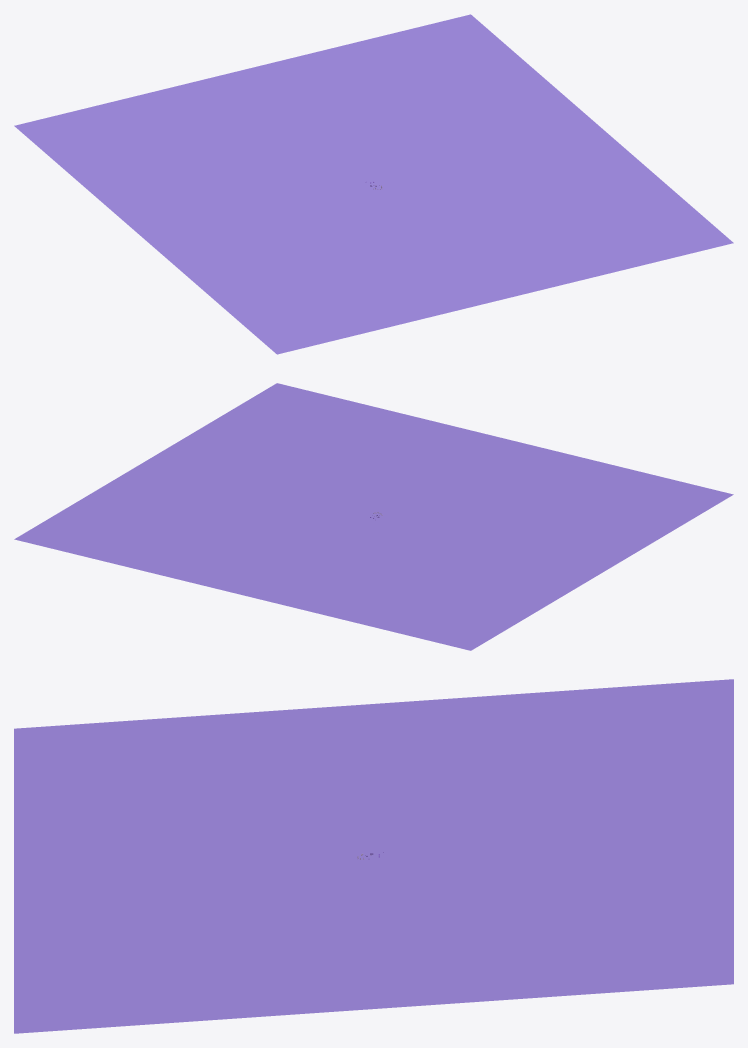
The model's file is Map3.fbx.
The picture shows the model from 3 angles, top to bottom: view 1: azimuth 30°, elevation 25°; view 2: azimuth 150°, elevation 25°; view 3: azimuth 270°, elevation 25°; orthographic projection. The views are drawn at different scales.
Parts seen in each view (by area): view 1: Fog; view 2: Fog; view 3: Fog.
Part boxes in pixels (<box>): Fog: <box>14,14,733,354</box>; Fog: <box>14,383,733,650</box>; Fog: <box>14,679,733,1033</box>.
Bounding box in the file's own units: 100000 × 7567 × 99713.
